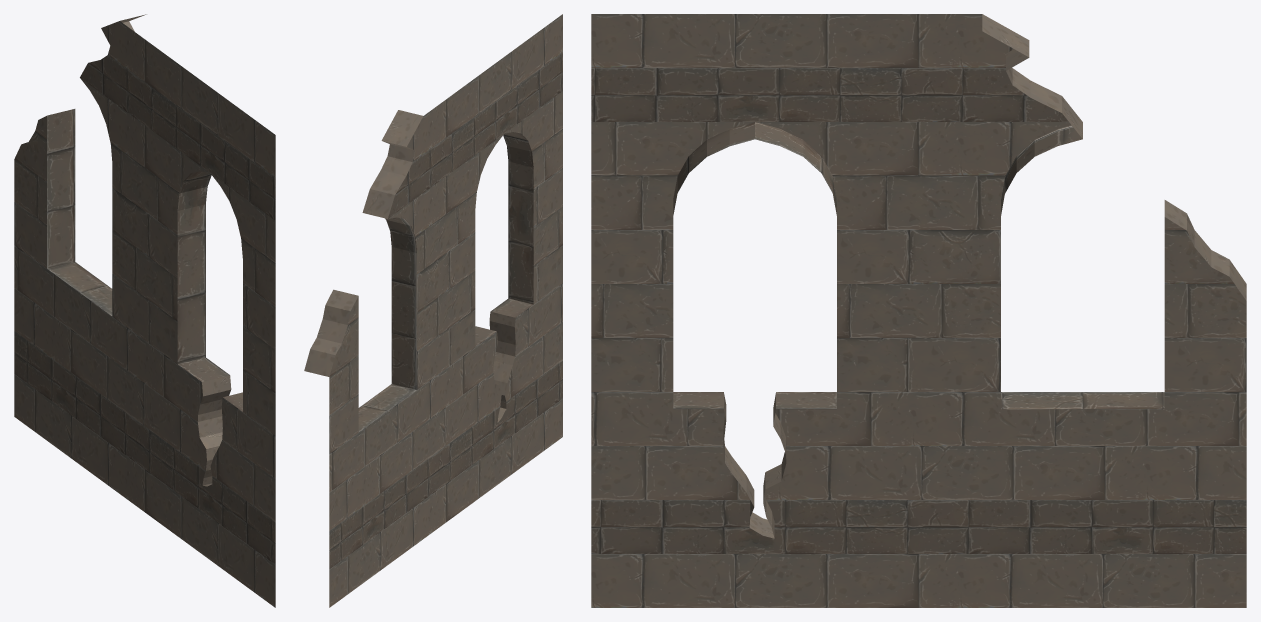
File: Ruins_WindowWall_Broken_01a.fbx
3 renders of one model, left to right at view 1: azimuth 30°, elevation 25°; view 2: azimuth 150°, elevation 25°; view 3: azimuth 270°, elevation 25°, orthographic. The views are drawn at different scales.
Visible parts, largest first — view 1: Ruins_WindowWall_Broken_01a; view 2: Ruins_WindowWall_Broken_01a; view 3: Ruins_WindowWall_Broken_01a.
Boxes of the visible parts, left/top/right/bottom form: Ruins_WindowWall_Broken_01a: left=14, top=14, right=275, bottom=607; Ruins_WindowWall_Broken_01a: left=304, top=14, right=562, bottom=607; Ruins_WindowWall_Broken_01a: left=591, top=14, right=1246, bottom=607.
Size of the model in its own units: 0.5 by 8 by 8.
Materials: 1 (1 with a texture image).
